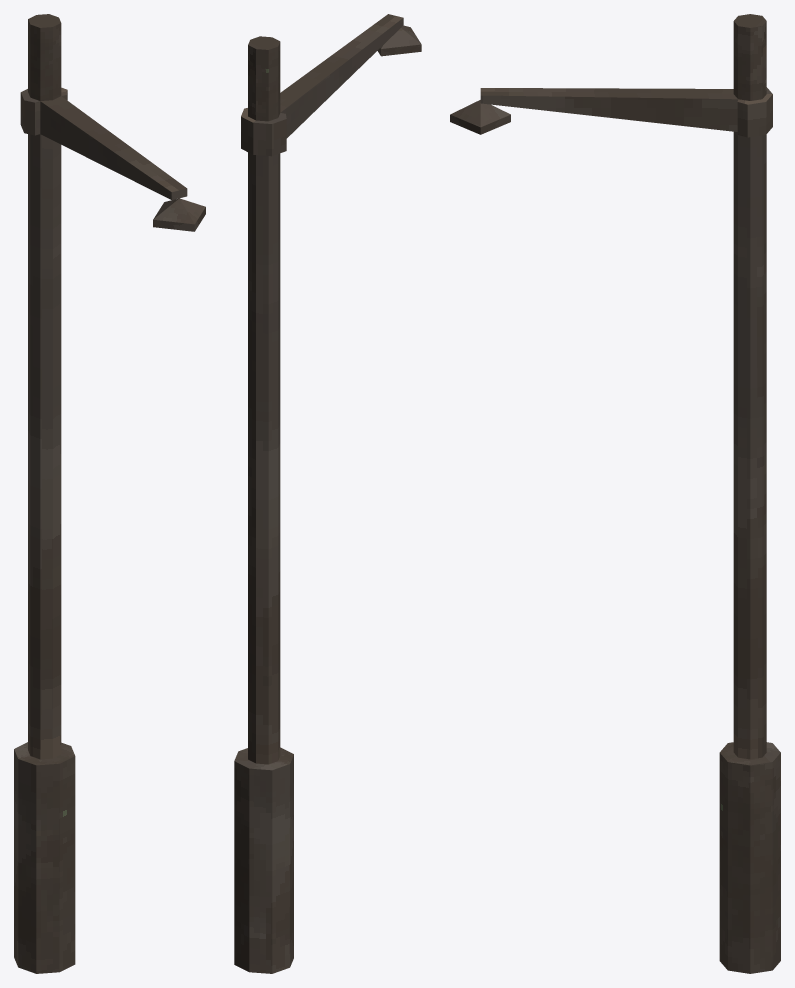
Rendered from Poste.fbx.
The picture shows the model from 3 angles, left to right: view 1: azimuth 30°, elevation 25°; view 2: azimuth 150°, elevation 25°; view 3: azimuth 270°, elevation 25°; orthographic projection. The views are drawn at different scales.
Parts seen in each view (by area): view 1: Plano.011; view 2: Plano.011; view 3: Plano.011.
Boxes of the visible parts, x1,y1,x2,y2 form: Plano.011: (14,14,205,973); Plano.011: (234,14,421,973); Plano.011: (450,14,780,973).
Bounding box in the file's own units: 23.21 × 394 × 125.
